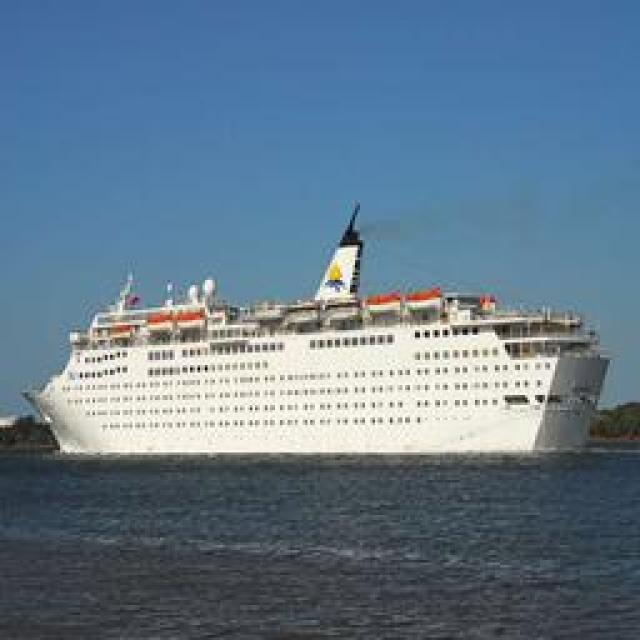CIV_Ship: (27, 221, 615, 454)
